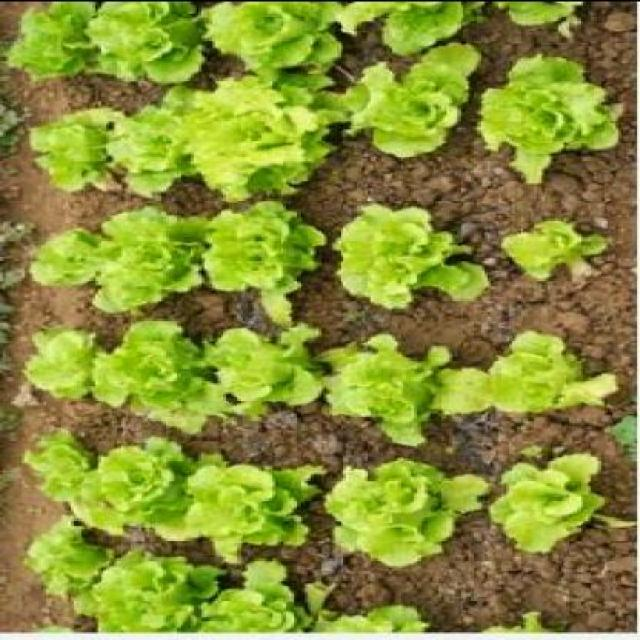Lettuce: (184, 72, 348, 203), (472, 53, 624, 186), (320, 455, 478, 574), (325, 333, 480, 448), (335, 198, 487, 314), (488, 441, 616, 566), (181, 453, 316, 566), (74, 436, 208, 549), (352, 41, 477, 157), (94, 318, 221, 432), (200, 313, 325, 427), (477, 326, 612, 424), (84, 208, 208, 314), (205, 200, 327, 304), (78, 549, 215, 639), (108, 84, 208, 200), (87, 0, 209, 89), (203, 0, 346, 74), (196, 560, 318, 640), (27, 104, 130, 197), (21, 514, 116, 604), (499, 213, 607, 290), (20, 321, 106, 412), (338, 0, 478, 55), (5, 3, 99, 84), (22, 226, 113, 294), (24, 424, 97, 506), (316, 598, 443, 640), (495, 0, 586, 32)
